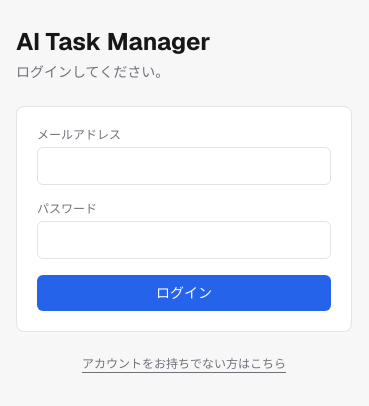
Test: AuthForm › 認証に失敗したら理由を表示する
Type "a@example.com" into the field labelled "メールアドレス". click: (184, 166)
box: [37,147,331,185]
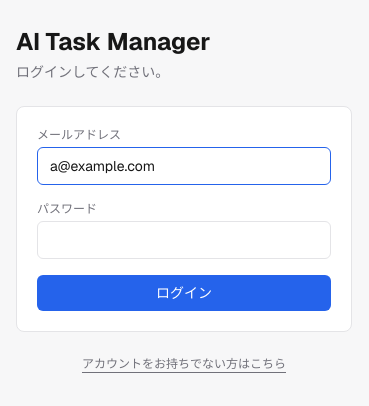
Type "password123" into the password field labelled "パスワード". click: (184, 240)
box: [37,221,331,259]
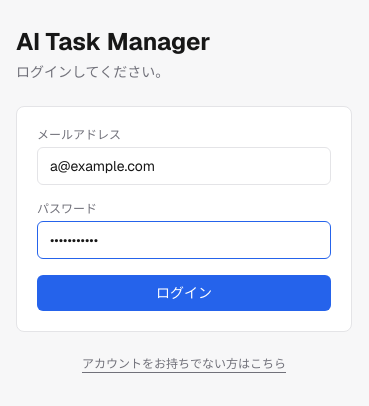
Click the button "ログイン". click: (184, 293)
box: [37,275,331,311]
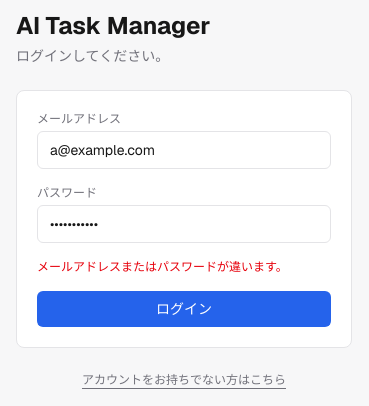
Expected: the text "メールアドレスまたはパスワードが違います。" is shown, [37,259,331,275]
